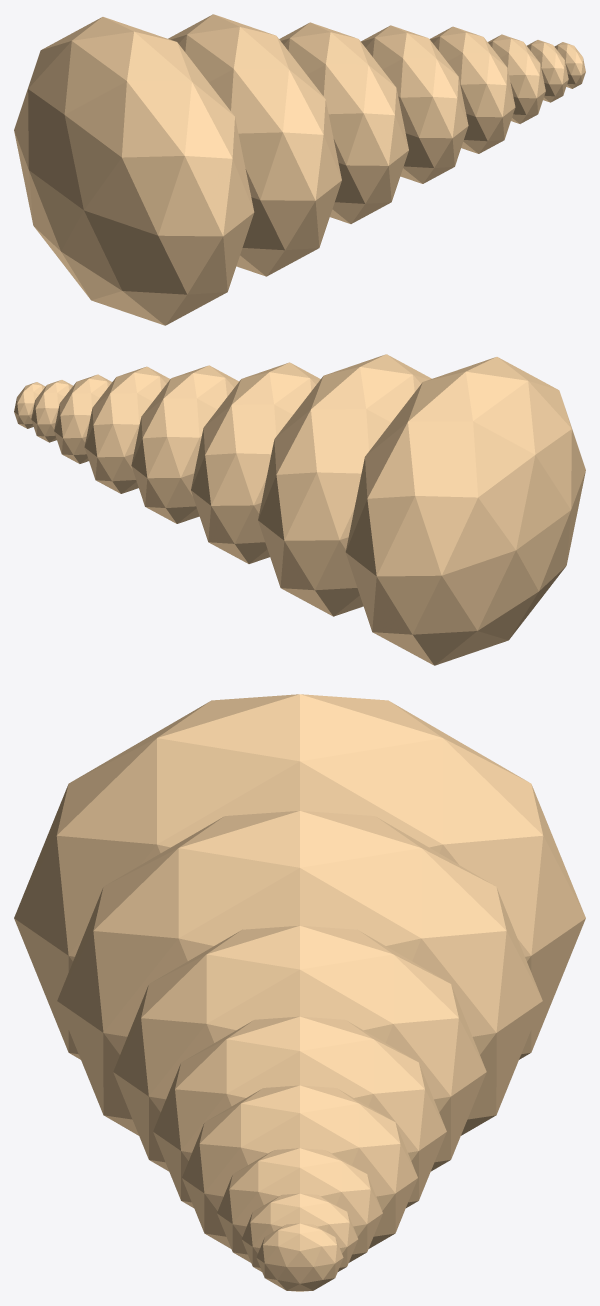
Rendered from Conch Shell.fbx.
3 views of the same model, one above another, from view 1: azimuth 30°, elevation 25°; view 2: azimuth 150°, elevation 25°; view 3: azimuth 270°, elevation 25° (orthographic). The views are drawn at different scales.
Parts seen in each view (by area): view 1: Icosphere.008; view 2: Icosphere.008; view 3: Icosphere.008.
Part boxes in pixels (x1,y1,x2,y2): Icosphere.008: (14,14,585,325); Icosphere.008: (14,354,585,665); Icosphere.008: (14,694,585,1291).
Bounding box in the file's own units: 74.58 × 38.03 × 44.01.
